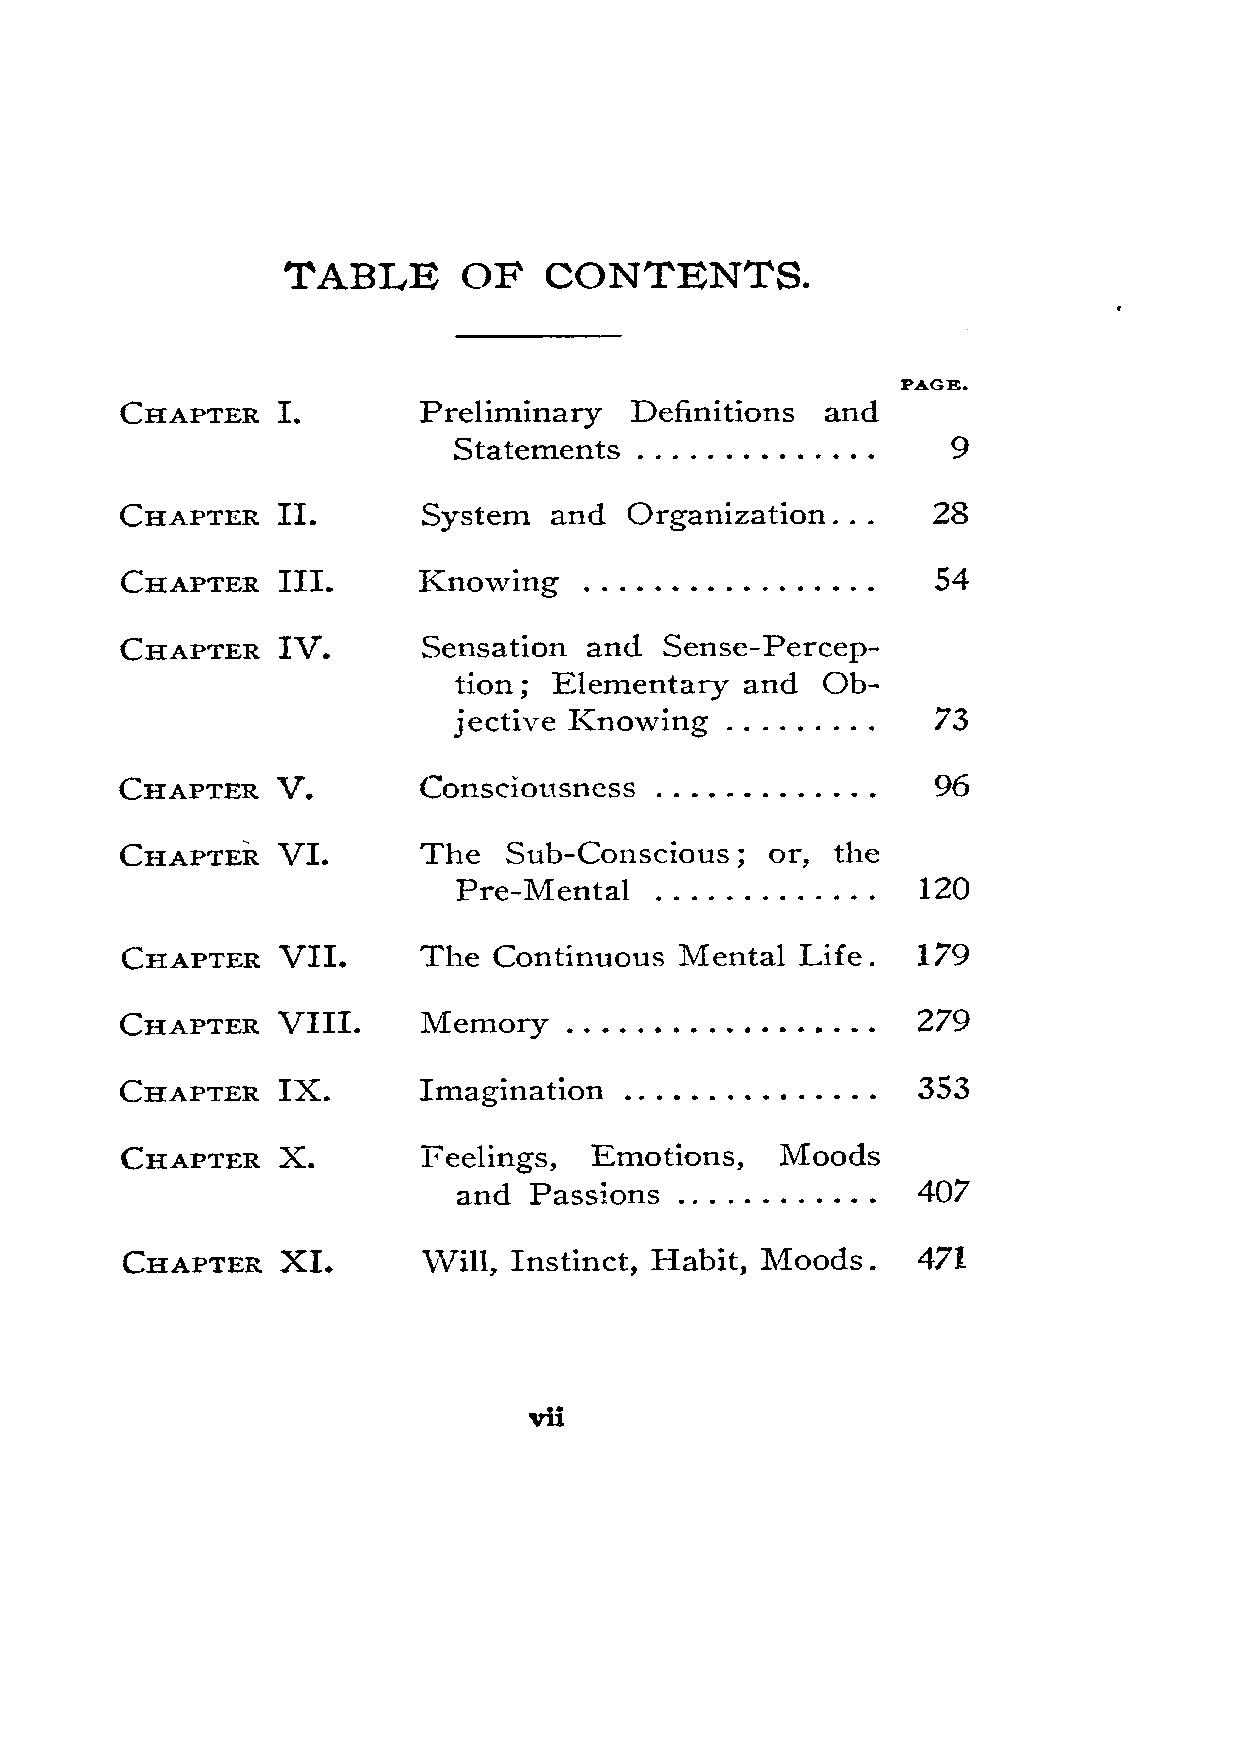TOC_chapter: (114, 632, 888, 741), (117, 1139, 884, 1210), (115, 395, 879, 464), (115, 840, 888, 905), (119, 1241, 878, 1279), (115, 942, 878, 972), (114, 501, 828, 531), (115, 773, 640, 804), (117, 564, 561, 599), (118, 1008, 552, 1041), (115, 1078, 607, 1106)
TOC_pagenumber: (921, 871, 972, 903), (915, 1007, 973, 1035), (913, 939, 969, 968), (917, 1243, 969, 1272), (931, 702, 980, 733), (917, 1074, 972, 1100), (918, 1176, 970, 1204), (930, 769, 974, 801), (929, 497, 968, 523), (934, 564, 968, 595), (943, 431, 970, 460)
chapter: (280, 259, 815, 291)
